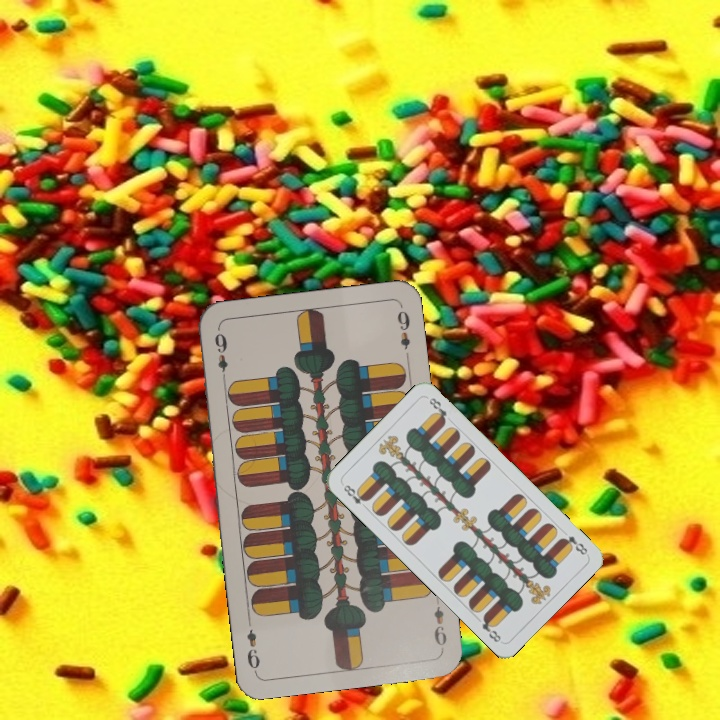E8: (339, 481, 371, 512), (557, 532, 590, 557)
E9: (210, 329, 230, 385), (430, 602, 449, 649)
